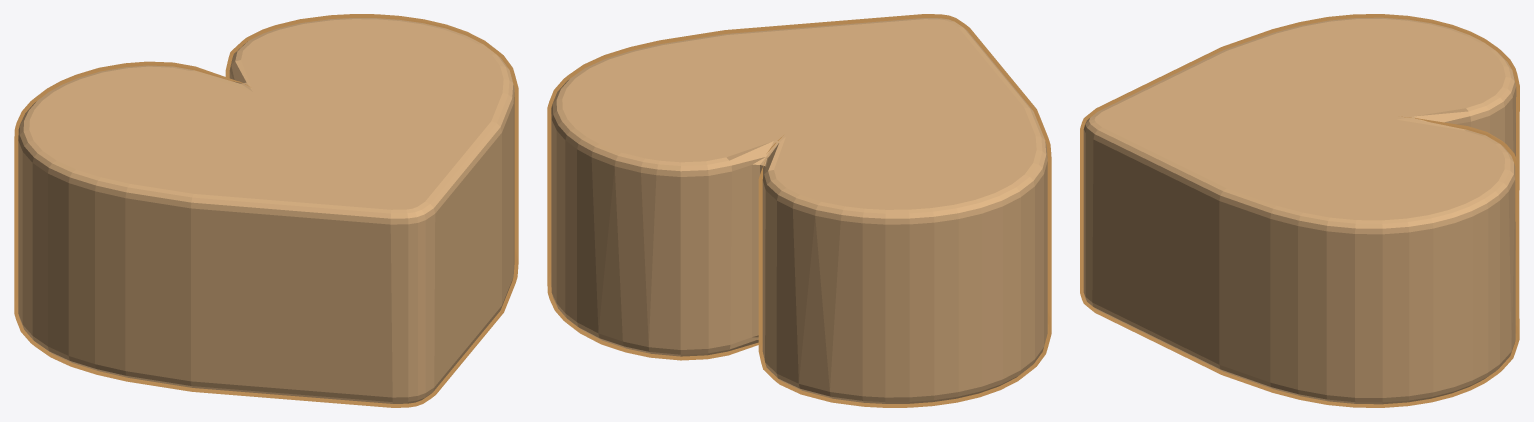
The model's file is coracao baunilha.glb.
The picture shows the model from 3 angles, left to right: view 1: azimuth 30°, elevation 25°; view 2: azimuth 150°, elevation 25°; view 3: azimuth 270°, elevation 25°; orthographic projection. The views are drawn at different scales.
Parts seen in each view (by area): view 1: Circle.005; view 2: Circle.005; view 3: Circle.005.
Boxes of the visible parts, box(x1,y1,x2,y2) form: Circle.005: box(14, 14, 518, 407); Circle.005: box(547, 14, 1051, 407); Circle.005: box(1080, 14, 1519, 407).
Bounding box in the file's own units: 24.16 × 10 × 21.03.
